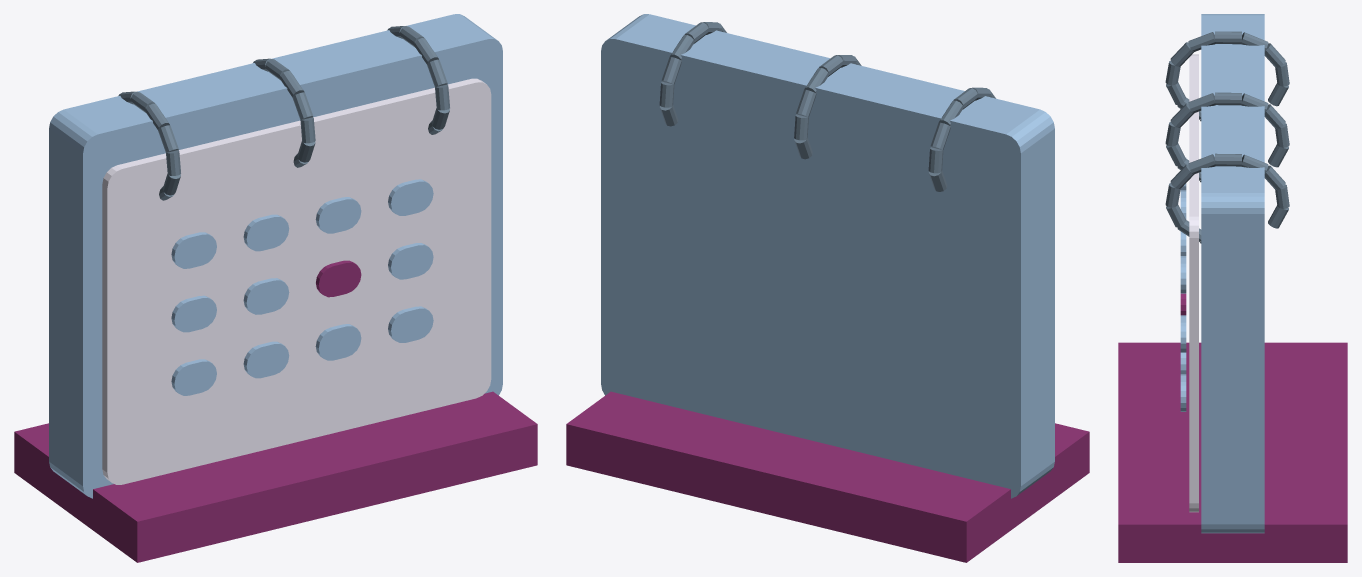
Rendered from deskcalendar.glb.
The picture shows the model from 3 angles, left to right: view 1: azimuth 30°, elevation 25°; view 2: azimuth 150°, elevation 25°; view 3: azimuth 270°, elevation 25°; orthographic projection. The views are drawn at different scales.
Parts seen in each view (by area): view 1: calendar page, binding board, rear foot, day 1, day 9, day 4, marked date, day 3, day 5, day 11, day 0, day 7 (+3 smaller); view 2: binding board, rear foot; view 3: rear foot, binding board, calendar page, loop16, loop06, loop26, loop15, loop25, loop05, loop04, loop14, loop24 (+3 smaller).
Part boxes in pixels (<box>): calendar page: <box>102,78,491,484</box>; binding board: <box>49,14,502,498</box>; rear foot: <box>14,391,537,562</box>; day 1: <box>243,214,289,251</box>; day 9: <box>243,341,289,378</box>; day 4: <box>171,295,216,332</box>; marked date: <box>316,260,361,297</box>; day 3: <box>388,179,433,215</box>; day 5: <box>243,278,289,314</box>; day 11: <box>388,306,433,342</box>; day 0: <box>171,232,216,268</box>; day 7: <box>388,243,433,279</box>; binding board: <box>601,14,1054,498</box>; rear foot: <box>566,391,1089,562</box>; rear foot: <box>1118,342,1347,562</box>; binding board: <box>1201,14,1264,533</box>; calendar page: <box>1189,54,1198,512</box>; loop16: <box>1215,92,1241,105</box>; loop06: <box>1215,31,1241,44</box>; loop26: <box>1215,153,1241,166</box>; loop15: <box>1188,93,1215,113</box>; loop25: <box>1188,154,1215,174</box>; loop05: <box>1188,32,1215,52</box>; loop04: <box>1170,42,1193,66</box>; loop14: <box>1170,103,1193,127</box>; loop24: <box>1170,164,1193,188</box>.
Size of the model in its own units: 1.28 by 1.18 by 0.65.
